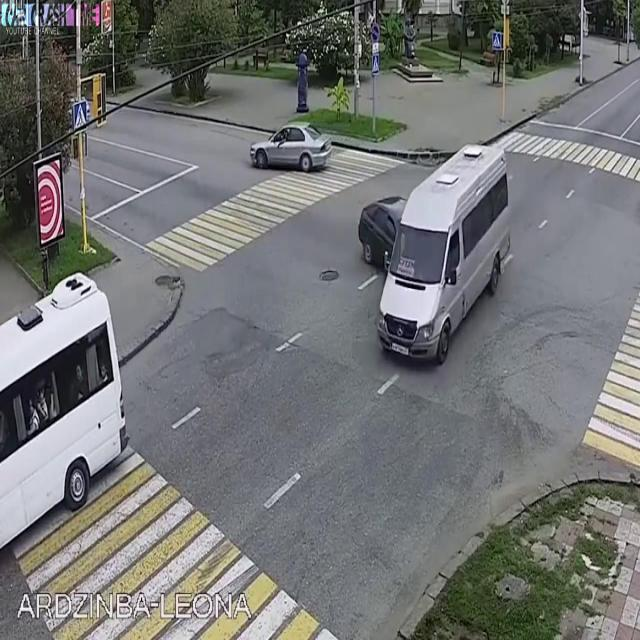accident: (351, 135, 518, 373)
